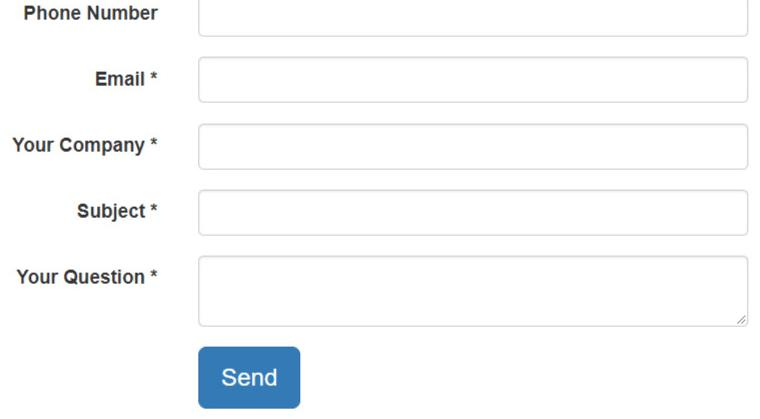button: (193, 344, 302, 413)
field: (193, 254, 752, 328), (195, 121, 753, 173), (194, 187, 753, 238), (195, 54, 751, 104)
field_with_label: (17, 252, 754, 329), (14, 118, 754, 176), (75, 185, 755, 241), (94, 52, 753, 106)
